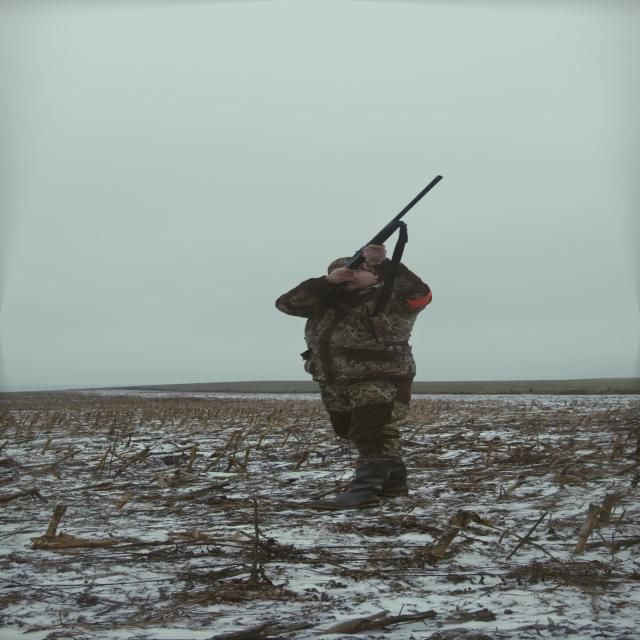poacher: (277, 236, 455, 514)
weapon: (339, 173, 446, 270)
